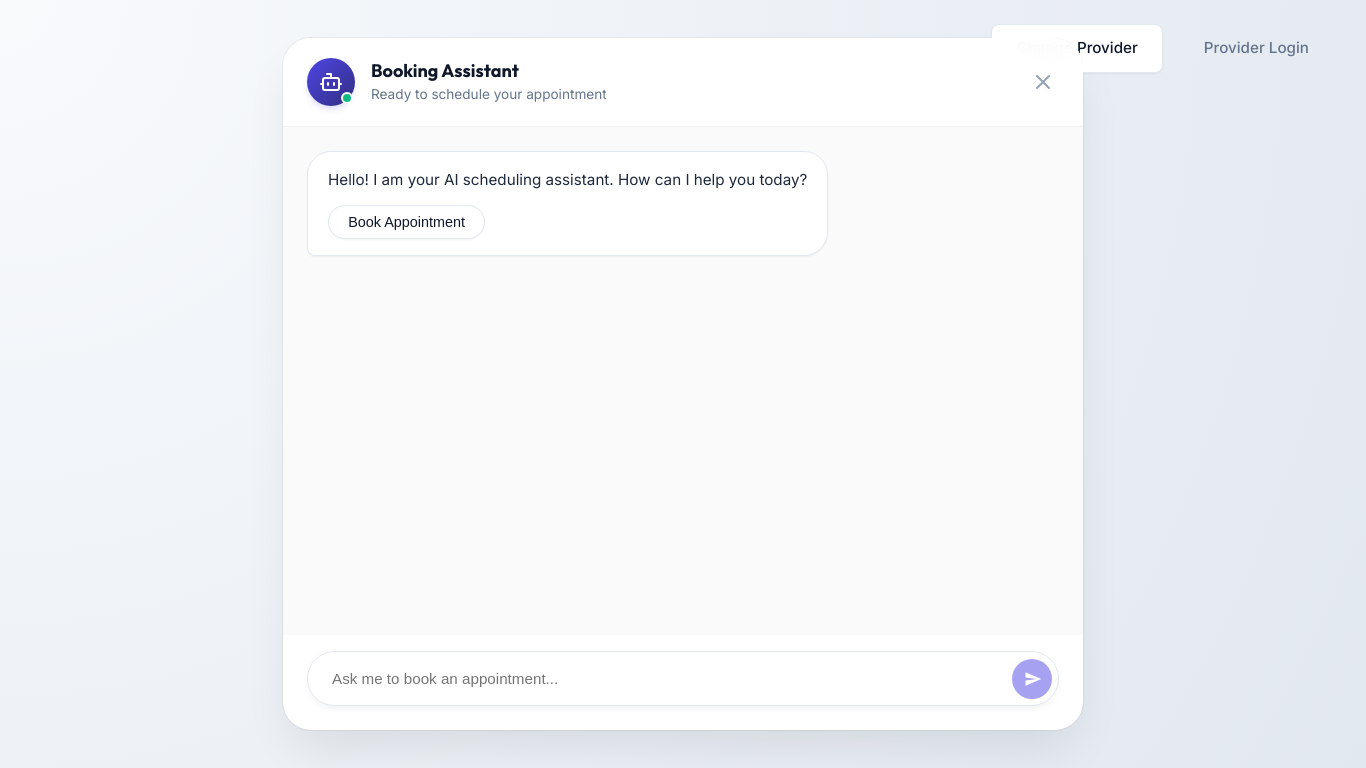
Scenario: Chatbot › sends quick reply successfully
Expected: the heading "Booking Assistant" is shown, [371,59,519,82]
What coordinates should you click on to do the following:
click the button "Book Appointment"
I would click on:
 (407, 222)
Its box is [328,205,485,239].
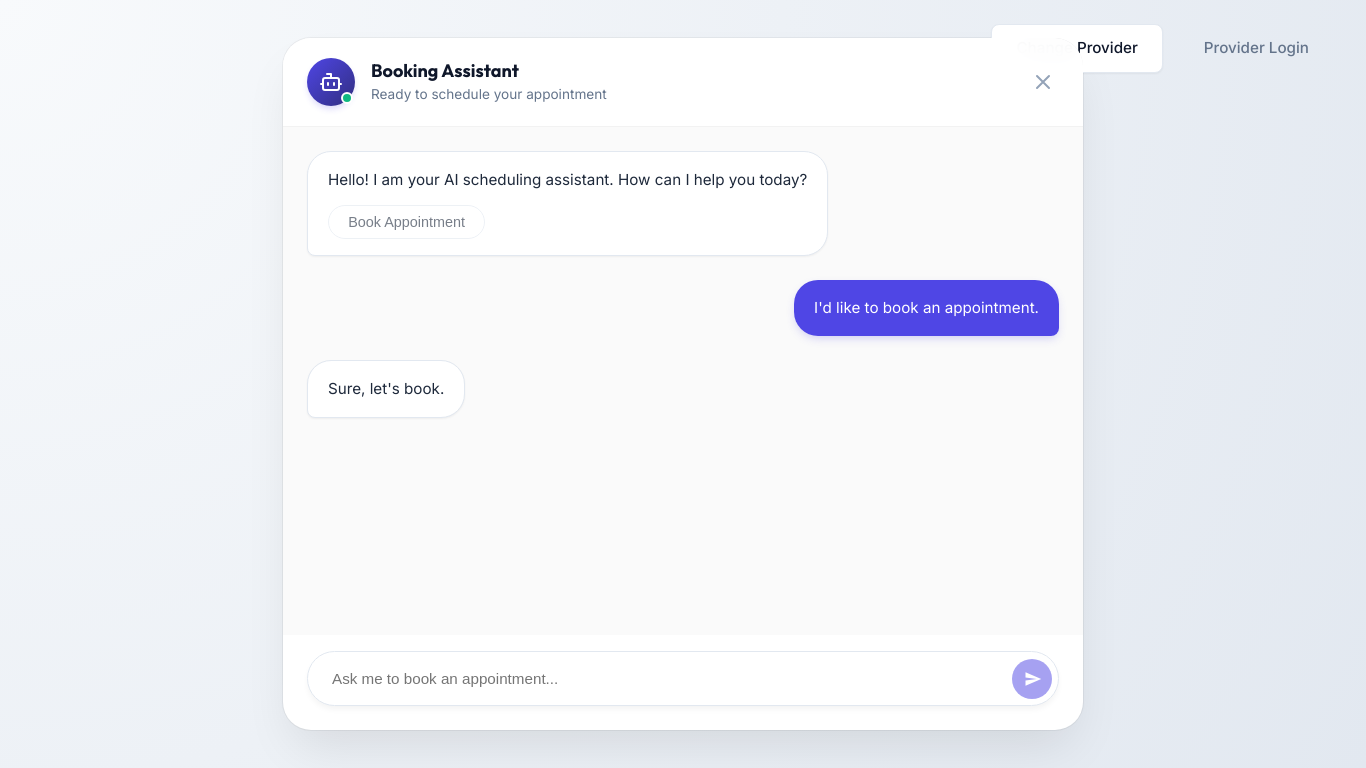
Expected: the text "I'd like to book an appointment." is shown, [814,296,1039,320]
Expected: the text "Sure, let's book." is shown, [328,377,444,401]
